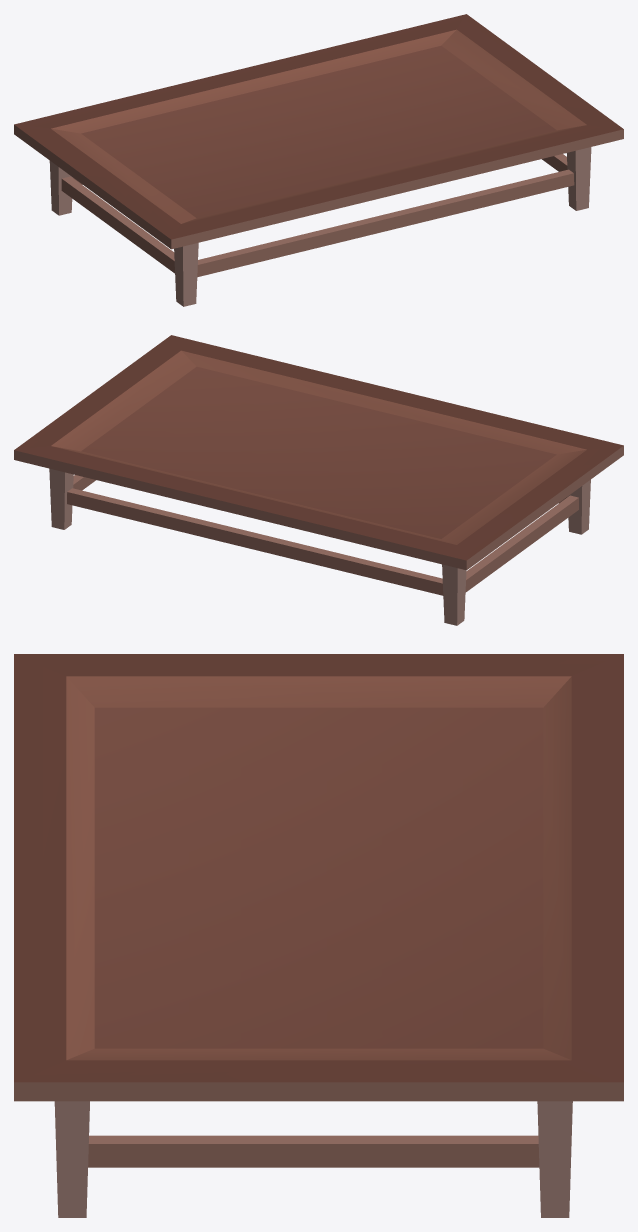
Rendered from MESITA.obj.
3 views of the same model, one above another, from view 1: azimuth 30°, elevation 25°; view 2: azimuth 150°, elevation 25°; view 3: azimuth 270°, elevation 25° (orthographic). The views are drawn at different scales.
Visible parts, largest first — view 1: coffee_table_001; view 2: coffee_table_001; view 3: coffee_table_001.
Boxes of the visible parts, bbox=[...] form: coffee_table_001: bbox=[14, 14, 623, 306]; coffee_table_001: bbox=[14, 335, 623, 625]; coffee_table_001: bbox=[14, 654, 623, 1217].
Bounding box in the file's own units: 1.25 × 0.2146 × 0.7518.
Materials: 1 (1 with a texture image).
